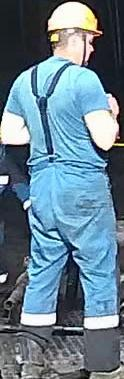helmet: (45, 1, 103, 35)
